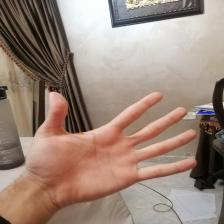five: (31, 88, 201, 204)
